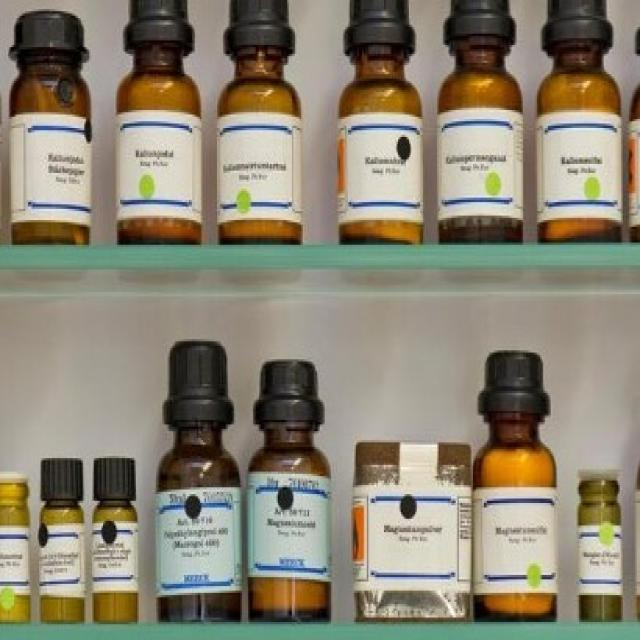electronic: (0, 334, 640, 625), (1, 0, 640, 240)
